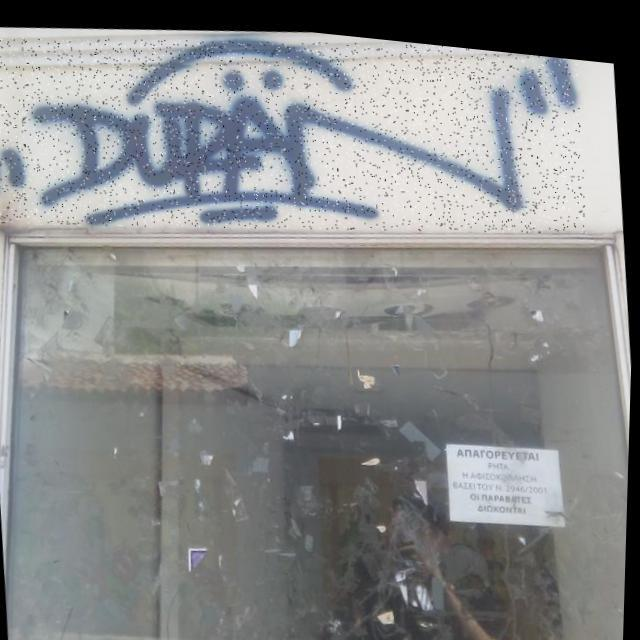-: (0, 0, 592, 272)
